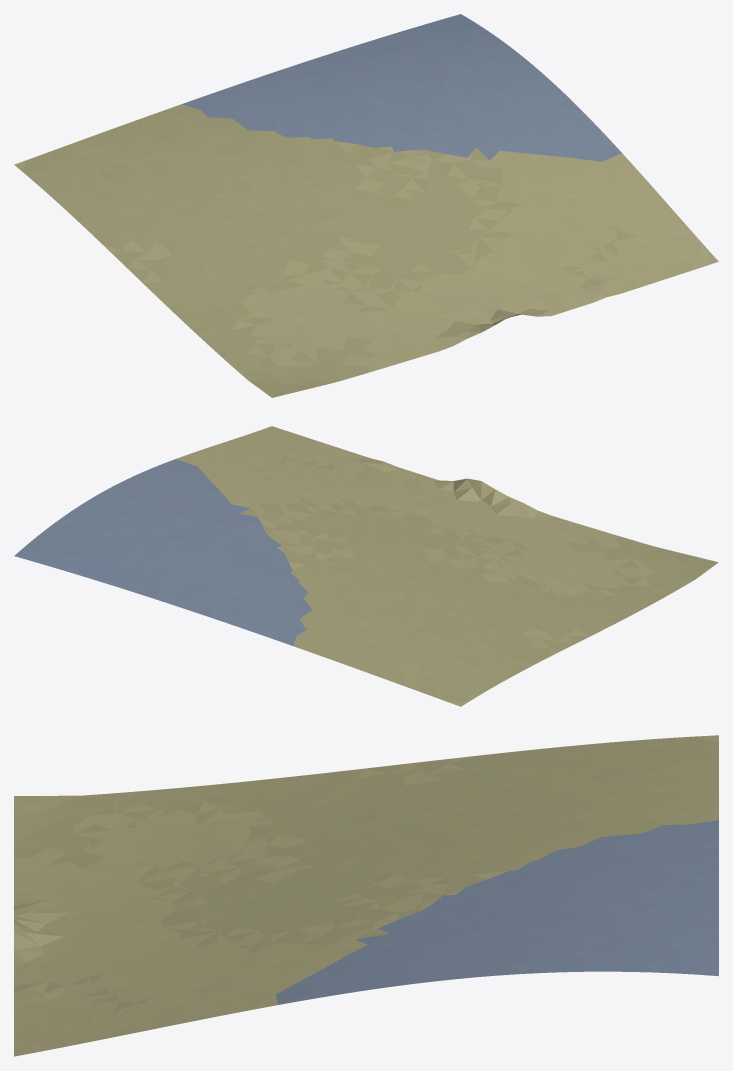
The model's file is Ground_-4_-10.glb.
The picture shows the model from 3 angles, top to bottom: view 1: azimuth 30°, elevation 25°; view 2: azimuth 150°, elevation 25°; view 3: azimuth 270°, elevation 25°; orthographic projection. The views are drawn at different scales.
Parts seen in each view (by area): view 1: Ground_-4_-10; view 2: Ground_-4_-10; view 3: Ground_-4_-10.
Part boxes in pixels (bbox=[...]): Ground_-4_-10: bbox=[14, 14, 718, 397]; Ground_-4_-10: bbox=[14, 426, 718, 706]; Ground_-4_-10: bbox=[14, 735, 718, 1056].
Bounding box in the file's own units: 768 × 147 × 768.
